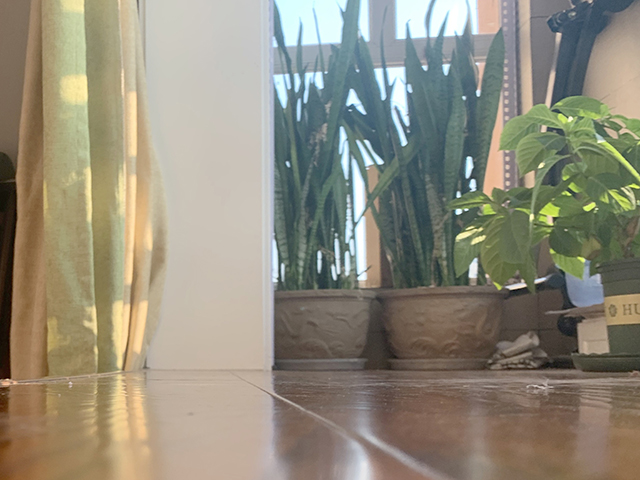curtain: (9, 1, 169, 384)
